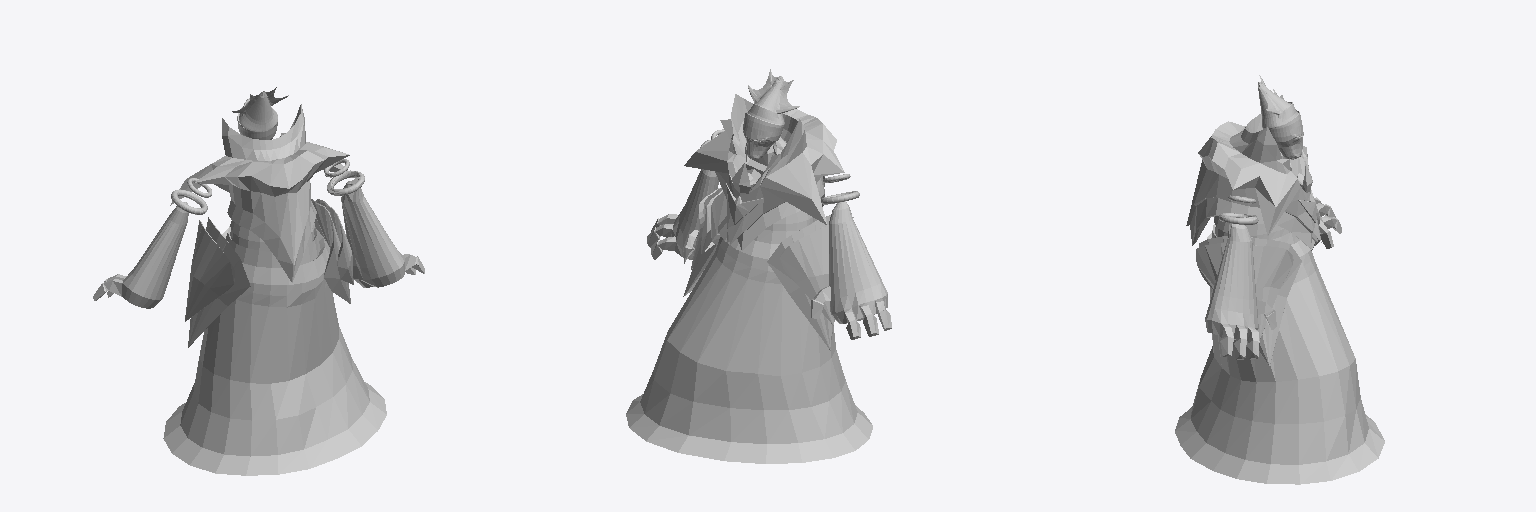
Rendered from RATH_IDLE_24FPS.0057.obj.
3 renders of one model, left to right at view 1: azimuth 30°, elevation 25°; view 2: azimuth 150°, elevation 25°; view 3: azimuth 270°, elevation 25°, orthographic.
Parts seen in each view (by area): view 1: pasted__pasted__pTorus3; view 2: pasted__pasted__pTorus3; view 3: pasted__pasted__pTorus3.
Boxes of the visible parts, x1,y1,x2,y2 form: pasted__pasted__pTorus3: [93, 87, 424, 475]; pasted__pasted__pTorus3: [626, 69, 891, 463]; pasted__pasted__pTorus3: [1175, 75, 1384, 484].
Bounding box in the file's own units: 147 × 174 × 94.1.